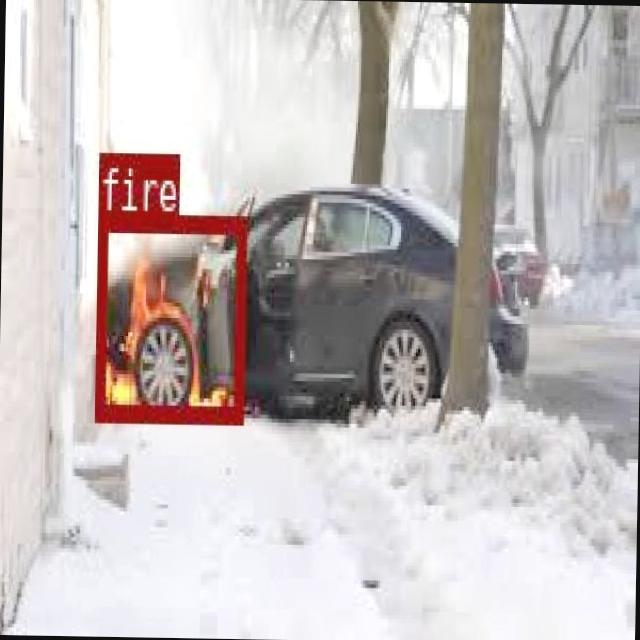fire: (93, 209, 244, 421)
